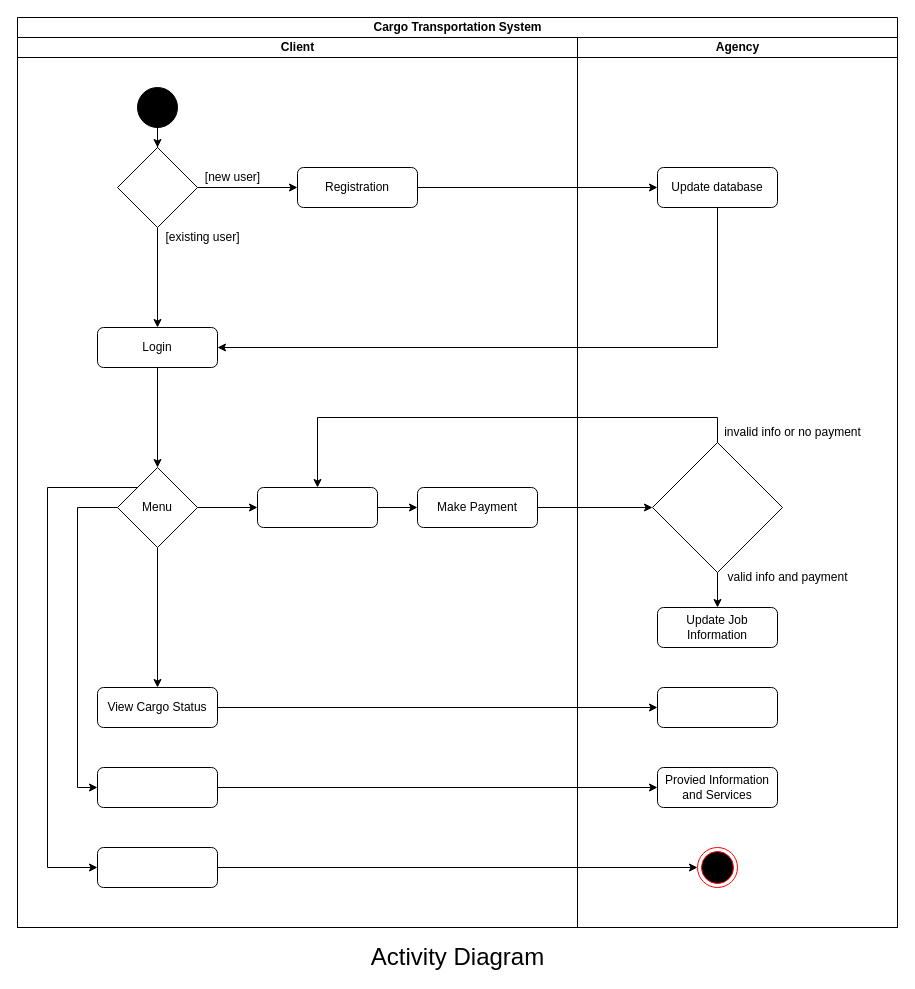
Image size: 915x989. Some labels were removed from this diagram. Each missing label, with the centre of its shape:
"Add Job Information" belongs at (317,507).
"Log out" belongs at (157,867).
"Show Cargo Status" belongs at (717,707).
"Verify payment and check Information" belongs at (717,507).
"View Information and Services" belongs at (157,787).
